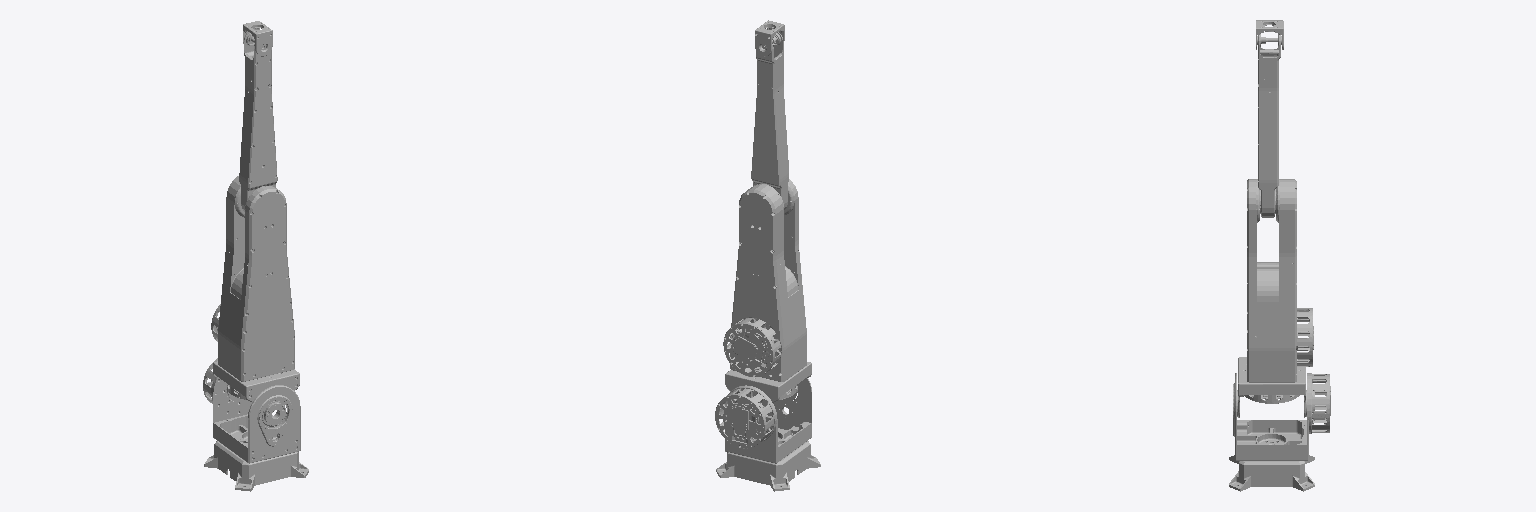
URDF robot description (SingleArm_URDF):
<robot
  name="SingleArm_URDF">
  <link
    name="Link0_BaseLink">
    <inertial>
      <origin
        xyz="0.00006138 0.00004088 0.03264798"
        rpy="0 0 0" />
      <mass
        value="1.71883160" />
      <inertia
        ixx="0.00291416"
        ixy="0.00000003"
        ixz="-0.00000538"
        iyy="0.00291699"
        iyz="0.00000054"
        izz="0.00512283" />
    </inertial>
    <visual>
      <origin
        xyz="0 0 0"
        rpy="0 0 0" />
      <geometry>
        <mesh
          filename="../meshes/Link0_BaseLink.STL" />
      </geometry>
      <material
        name="">
        <color
          rgba="0.752941176470588 0.752941176470588 0.752941176470588 1" />
      </material>
    </visual>
    <collision>
      <origin
        xyz="0 0 0"
        rpy="0 0 0" />
      <geometry>
        <mesh
          filename="../meshes/Link0_BaseLink.STL" />
      </geometry>
    </collision>
  </link>
  <link
    name="Link1_ShoulderYaw">
    <inertial>
      <origin
        xyz="-0.00003072 0.03271988 0.07330806"
        rpy="0 0 0" />
      <mass
        value="2.92897323" />
      <inertia
        ixx="0.01768799"
        ixy="-0.00000306"
        ixz="-0.00000200"
        iyy="0.00818322"
        iyz="0.00319038"
        izz="0.01466629" />
    </inertial>
    <visual>
      <origin
        xyz="0 0 0"
        rpy="0 0 0" />
      <geometry>
        <mesh
          filename="../meshes/Link1_ShoulderYaw.STL" />
      </geometry>
      <material
        name="">
        <color
          rgba="0.752941176470588 0.752941176470588 0.752941176470588 1" />
      </material>
    </visual>
    <collision>
      <origin
        xyz="0 0 0"
        rpy="0 0 0" />
      <geometry>
        <mesh
          filename="../meshes/Link1_ShoulderYaw.STL" />
      </geometry>
    </collision>
  </link>
  <joint
    name="ShoulderYaw"
    type="revolute">
    <origin
      xyz="0 0 0.051"
      rpy="0 0 0" />
    <parent
      link="Link0_BaseLink" />
    <child
      link="Link1_ShoulderYaw" />
    <axis
      xyz="0 0 -1" />
    <limit
      lower="-12.5"
      upper="12.5"
      effort="60"
      velocity="35" />
  </joint>
  <link
    name="Link2_ShoulderPitch">
    <inertial>
      <origin
        xyz="0.00000789 -0.00194535 0.04693111"
        rpy="0 0 0" />
      <mass
        value="1.73548719" />
      <inertia
        ixx="0.00380326"
        ixy="0.00000006"
        ixz="-0.00000046"
        iyy="0.00244715"
        iyz="0.00008659"
        izz="0.00458337" />
    </inertial>
    <visual>
      <origin
        xyz="0 0 0"
        rpy="0 0 0" />
      <geometry>
        <mesh
          filename="../meshes/Link2_ShoulderPitch.STL" />
      </geometry>
      <material
        name="">
        <color
          rgba="0.752941176470588 0.752941176470588 0.752941176470588 1" />
      </material>
    </visual>
    <collision>
      <origin
        xyz="0 0 0"
        rpy="0 0 0" />
      <geometry>
        <mesh
          filename="../meshes/Link2_ShoulderPitch.STL" />
      </geometry>
    </collision>
  </link>
  <joint
    name="ShoulderPitch"
    type="revolute">
    <origin
      xyz="0 0 0.106"
      rpy="0 0 0" />
    <parent
      link="Link1_ShoulderYaw" />
    <child
      link="Link2_ShoulderPitch" />
    <axis
      xyz="0 1 0" />
    <limit
      lower="-1.57"
      upper="1.57"
      effort="60"
      velocity="30" />
  </joint>
  <link
    name="Link3_ShoulderRoll">
    <inertial>
      <origin
        xyz="0.00045541 0.01188281 0.14063159"
        rpy="0 0 0" />
      <mass
        value="4.98663976" />
      <inertia
        ixx="0.06157462"
        ixy="-0.00006680"
        ixz="-0.00018011"
        iyy="0.06017120"
        iyz="-0.00390430"
        izz="0.01139760" />
    </inertial>
    <visual>
      <origin
        xyz="0 0 0"
        rpy="0 0 0" />
      <geometry>
        <mesh
          filename="../meshes/Link3_ShoulderRoll.STL" />
      </geometry>
      <material
        name="">
        <color
          rgba="0.752941176470588 0.752941176470588 0.752941176470588 1" />
      </material>
    </visual>
    <collision>
      <origin
        xyz="0 0 0"
        rpy="0 0 0" />
      <geometry>
        <mesh
          filename="../meshes/Link3_ShoulderRoll.STL" />
      </geometry>
    </collision>
  </link>
  <joint
    name="ShoulderRoll"
    type="revolute">
    <origin
      xyz="0 0 0.071"
      rpy="0 0 0" />
    <parent
      link="Link2_ShoulderPitch" />
    <child
      link="Link3_ShoulderRoll" />
    <axis
      xyz="0 0 -1" />
    <limit
      lower="-12.5"
      upper="12.5"
      effort="60"
      velocity="30" />
  </joint>
  <link
    name="Link4_Elbow">
    <inertial>
      <origin
        xyz="0.00000564 0.00657141 0.10847341"
        rpy="0 0 0" />
      <mass
        value="0.81719369" />
      <inertia
        ixx="0.01301935"
        ixy="-0.00000011"
        ixz="0.00000103"
        iyy="0.01288933"
        iyz="-0.00038438"
        izz="0.00059974" />
    </inertial>
    <visual>
      <origin
        xyz="0 0 0"
        rpy="0 0 0" />
      <geometry>
        <mesh
          filename="../meshes/Link4_Elbow.STL" />
      </geometry>
      <material
        name="">
        <color
          rgba="0.752941176470588 0.752941176470588 0.752941176470588 1" />
      </material>
    </visual>
    <collision>
      <origin
        xyz="0 0 0"
        rpy="0 0 0" />
      <geometry>
        <mesh
          filename="../meshes/Link4_Elbow.STL" />
      </geometry>
    </collision>
  </link>
  <joint
    name="Elbow"
    type="revolute">
    <origin
      xyz="0 -0.00950000000000005 0.3855"
      rpy="0 0 0" />
    <parent
      link="Link3_ShoulderRoll" />
    <child
      link="Link4_Elbow" />
    <axis
      xyz="0 1 0" />
    <limit
      lower="-2.72"
      upper="2.72"
      effort="60"
      velocity="30" />
  </joint>
  <link
    name="Link5_WristPitch">
    <inertial>
      <origin
        xyz="0.00000000 0.00761474 0.01040346"
        rpy="0 0 0" />
      <mass
        value="0.17449011" />
      <inertia
        ixx="0.00008970"
        ixy="0.00000000"
        ixz="0.00000000"
        iyy="0.00007102"
        iyz="-0.00000541"
        izz="0.00006324" />
    </inertial>
    <visual>
      <origin
        xyz="0 0 0"
        rpy="0 0 0" />
      <geometry>
        <mesh
          filename="../meshes/Link5_WristPitch.STL" />
      </geometry>
      <material
        name="">
        <color
          rgba="0.752941176470588 0.752941176470588 0.752941176470588 1" />
      </material>
    </visual>
    <collision>
      <origin
        xyz="0 0 0"
        rpy="0 0 0" />
      <geometry>
        <mesh
          filename="../meshes/Link5_WristPitch.STL" />
      </geometry>
    </collision>
  </link>
  <joint
    name="WristPitch"
    type="revolute">
    <origin
      xyz="0 0 0.362"
      rpy="0 0 0" />
    <parent
      link="Link4_Elbow" />
    <child
      link="Link5_WristPitch" />
    <axis
      xyz="0 1 0" />
    <limit
      lower="-1.57"
      upper="1.57"
      effort="35"
      velocity="40" />
  </joint>
  <link
    name="Link6_WristRoll">
    <inertial>
      <origin
        xyz="0.00000000 0.00000000 -0.00633156"
        rpy="0 0 0" />
      <mass
        value="0.05386139" />
      <inertia
        ixx="0.00001035"
        ixy="0.00000000"
        ixz="0.00000000"
        iyy="0.00000704"
        iyz="0.00000000"
        izz="0.00001097" />
    </inertial>
    <visual>
      <origin
        xyz="0 0 0"
        rpy="0 0 0" />
      <geometry>
        <mesh
          filename="../meshes/Link6_WristRoll_WithGripper.STL" />
      </geometry>
      <material
        name="">
        <color
          rgba="0.752941176470588 0.752941176470588 0.752941176470588 1" />
      </material>
    </visual>
    <collision>
      <origin
        xyz="0 0 0"
        rpy="0 0 0" />
      <geometry>
        <mesh
          filename="../meshes/Link6_WristRoll_NoGripper.STL" />
      </geometry>
    </collision>
  </link>
  <joint
    name="WristRoll"
    type="revolute">
    <origin
      xyz="0 0.00400000000000001 0.0357399999999999"
      rpy="0 0 0" />
    <parent
      link="Link5_WristPitch" />
    <child
      link="Link6_WristRoll" />
    <axis
      xyz="0 0 1" />
    <limit
      lower="-12.5"
      upper="12.5"
      effort="35"
      velocity="40" />
  </joint>


 
</robot>

--- Render facts (derived) ---
3 views of the same robot in one strip: view 1: azimuth 30°, elevation 25°; view 2: azimuth 150°, elevation 25°; view 3: azimuth 270°, elevation 25° (orthographic).
Robot: SingleArm_URDF — 7 links, 6 joints (6 revolute); root link Link0_BaseLink; default pose: all joints at 0.
Visible links, largest first — view 1: Link3_ShoulderRoll, Link1_ShoulderYaw, Link4_Elbow, Link0_BaseLink, Link2_ShoulderPitch, Link5_WristPitch; view 2: Link3_ShoulderRoll, Link1_ShoulderYaw, Link4_Elbow, Link0_BaseLink, Link2_ShoulderPitch, Link5_WristPitch; view 3: Link3_ShoulderRoll, Link1_ShoulderYaw, Link4_Elbow, Link0_BaseLink, Link2_ShoulderPitch.
Boxes of the visible links, x1=… form: Link3_ShoulderRoll: x1=211, y1=176, x2=294, y2=381; Link1_ShoulderYaw: x1=203, y1=358, x2=300, y2=463; Link4_Elbow: x1=239, y1=32, x2=277, y2=211; Link0_BaseLink: x1=204, y1=441, x2=308, y2=491; Link2_ShoulderPitch: x1=213, y1=361, x2=299, y2=425; Link5_WristPitch: x1=243, y1=21, x2=272, y2=56; Link3_ShoulderRoll: x1=723, y1=179, x2=806, y2=381; Link1_ShoulderYaw: x1=715, y1=378, x2=811, y2=463; Link4_Elbow: x1=751, y1=32, x2=788, y2=209; Link0_BaseLink: x1=716, y1=441, x2=820, y2=491; Link2_ShoulderPitch: x1=725, y1=362, x2=811, y2=402; Link5_WristPitch: x1=755, y1=20, x2=784, y2=56; Link3_ShoulderRoll: x1=1247, y1=179, x2=1313, y2=382; Link1_ShoulderYaw: x1=1233, y1=373, x2=1330, y2=460; Link4_Elbow: x1=1258, y1=33, x2=1280, y2=217; Link0_BaseLink: x1=1229, y1=455, x2=1314, y2=491; Link2_ShoulderPitch: x1=1237, y1=357, x2=1306, y2=417.
Size in the robot's own frame: 0.1762 by 0.2094 by 1.01 metres.
Meshes: 7 distinct files referenced, 6 mesh visuals loaded (6 binary STL); not drawn: 1 (reference not matched to a file when rendering).